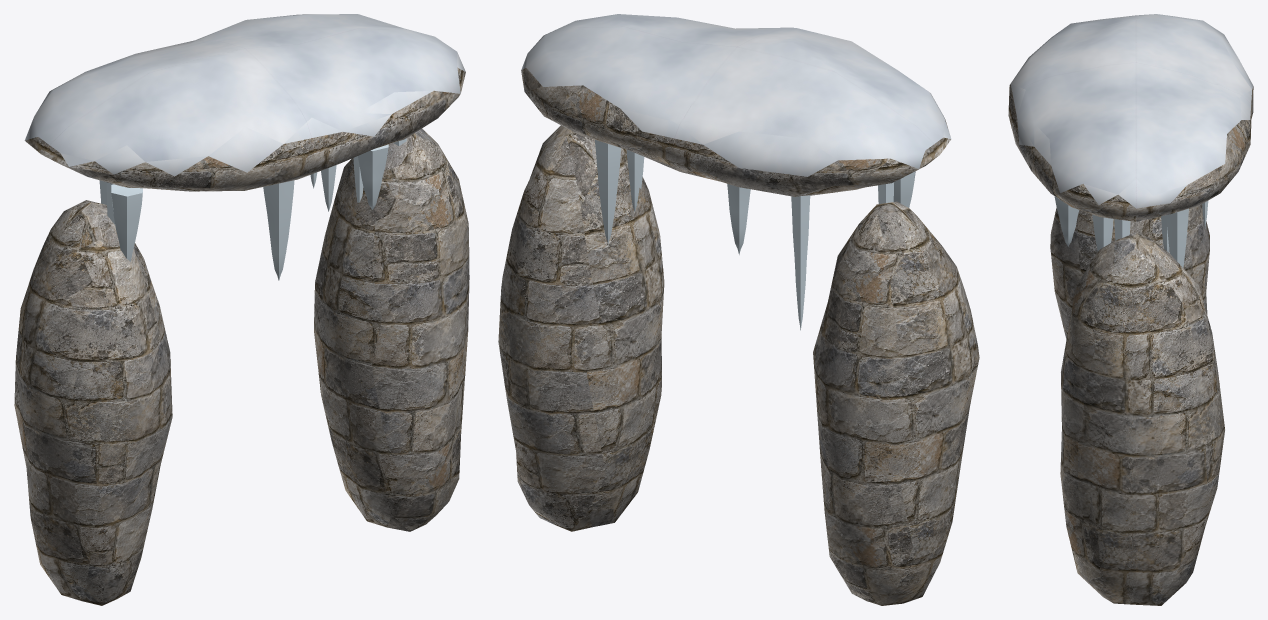
The model's file is icicles-v01.glb.
3 views of the same model, side by side, from view 1: azimuth 30°, elevation 25°; view 2: azimuth 150°, elevation 25°; view 3: azimuth 270°, elevation 25° (orthographic). The views are drawn at different scales.
Parts seen in each view (by area): view 1: icicles; view 2: icicles; view 3: icicles.
Part boxes in pixels (x1,y1,x2,y2): icicles: (14, 14, 469, 605); icicles: (498, 14, 979, 605); icicles: (1008, 14, 1253, 605).
Bounding box in the file's own units: 2.31 × 2.53 × 1.2.
3 materials, 2 textured.
